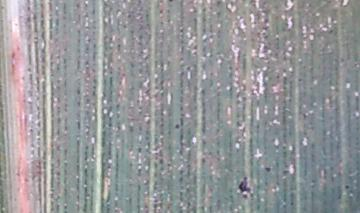tarspot: (234, 174, 256, 202), (263, 164, 273, 176), (172, 121, 183, 131), (342, 182, 351, 192)
